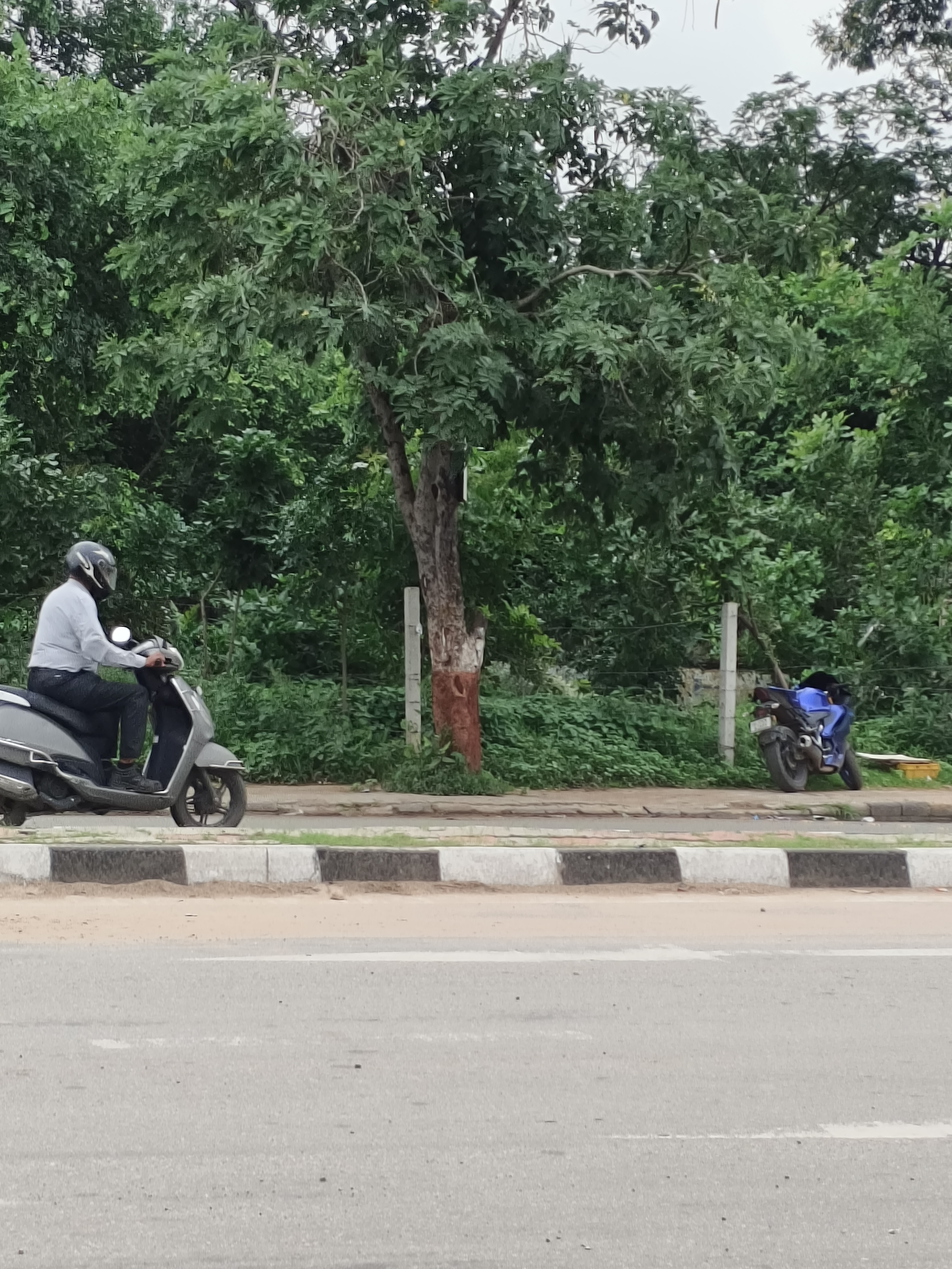BikeWithRider: (0, 509, 290, 837)
Helmet: (56, 531, 122, 600)
